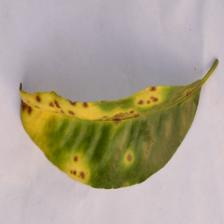canker: (18, 80, 90, 168)
